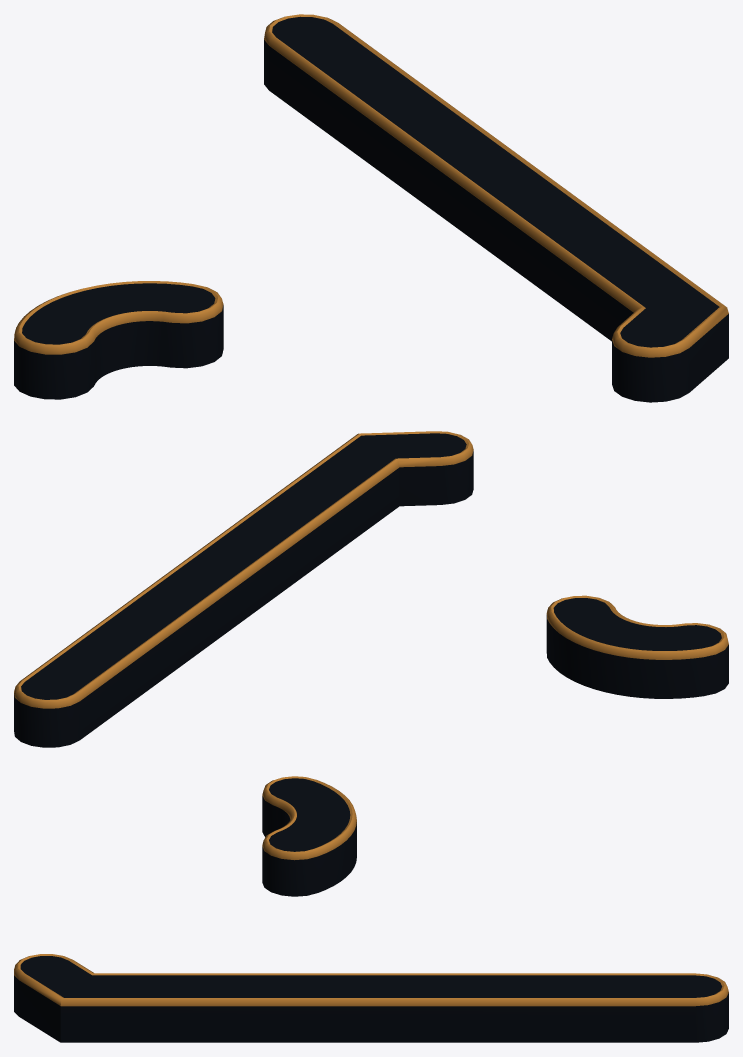
The model's file is trench-walls.dae.
3 views of the same model, one above another, from view 1: azimuth 30°, elevation 25°; view 2: azimuth 150°, elevation 25°; view 3: azimuth 270°, elevation 25° (orthographic). The views are drawn at different scales.
Visible parts, largest first — view 1: cabinet_shell, accent; view 2: cabinet_shell, accent; view 3: cabinet_shell, accent.
Part boxes in pixels (x1,y1,x2,y2): cabinet_shell: (14,16,728,402); accent: (14,14,728,357); cabinet_shell: (14,433,728,747); accent: (14,431,728,708); cabinet_shell: (14,778,728,1042); accent: (14,776,728,1006).
Bounding box in the file's own units: 0.3368 × 0.03 × 0.4516.
